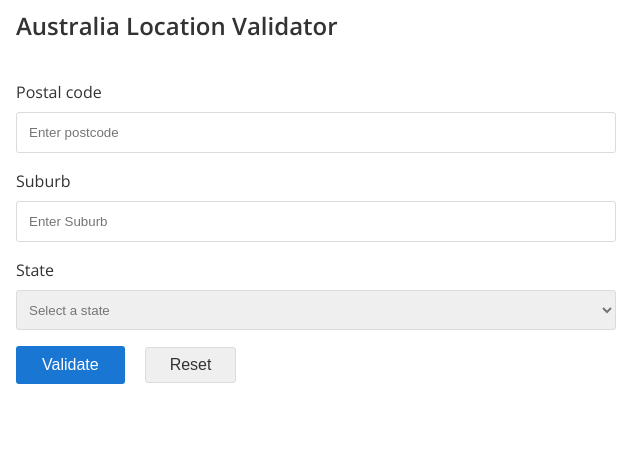
a AddressForm › validates address
The image size is (633, 458).
In the number field with placeholder "Enter postcode": [316, 132] box [16,112,616,153], type "6004"
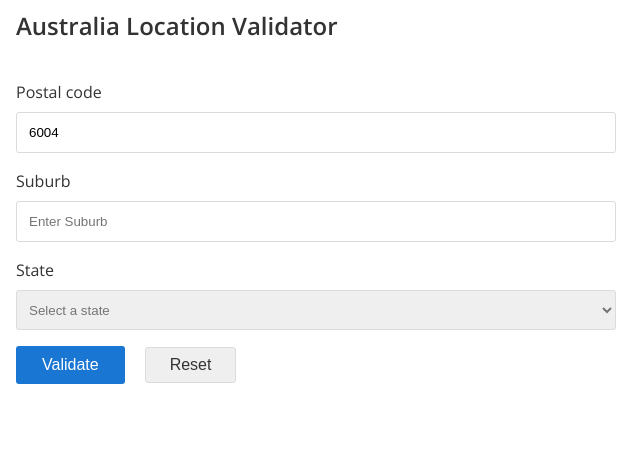
In the field with placeholder "Enter Suburb": [316, 222] box [16,201,616,242], type "EAST PERTH"
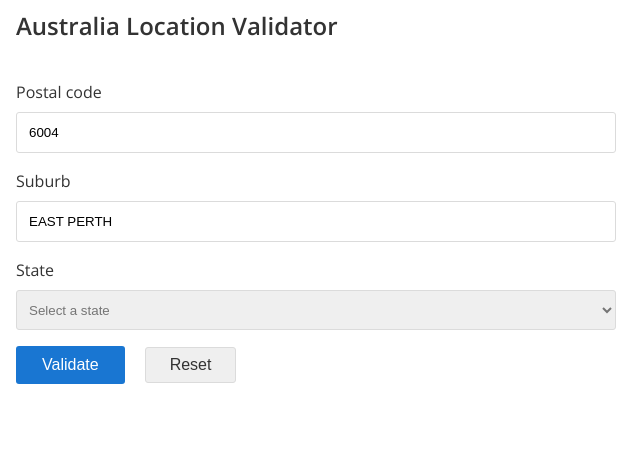
Select "Western Australia" in the dropdown with test id "select": [316, 310] box [16,290,616,330]
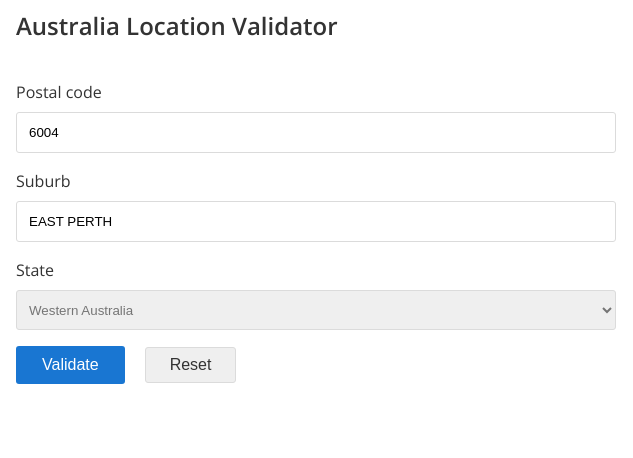
Click the button "Validate": [70, 365] box [16,346,125,384]
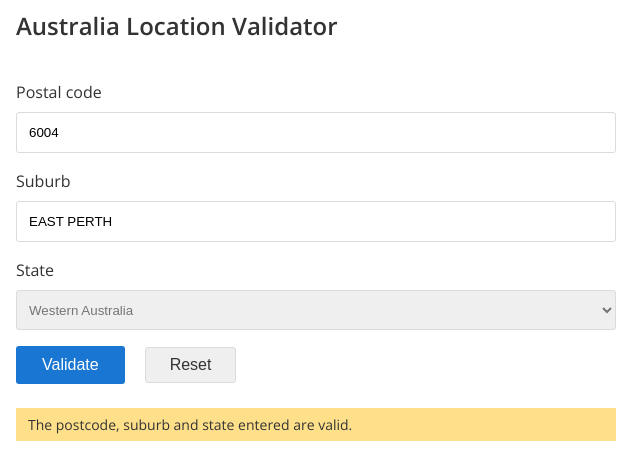
Check: the text "The postcode, suburb and state entered are valid." is shown, box [16,408,616,441]
